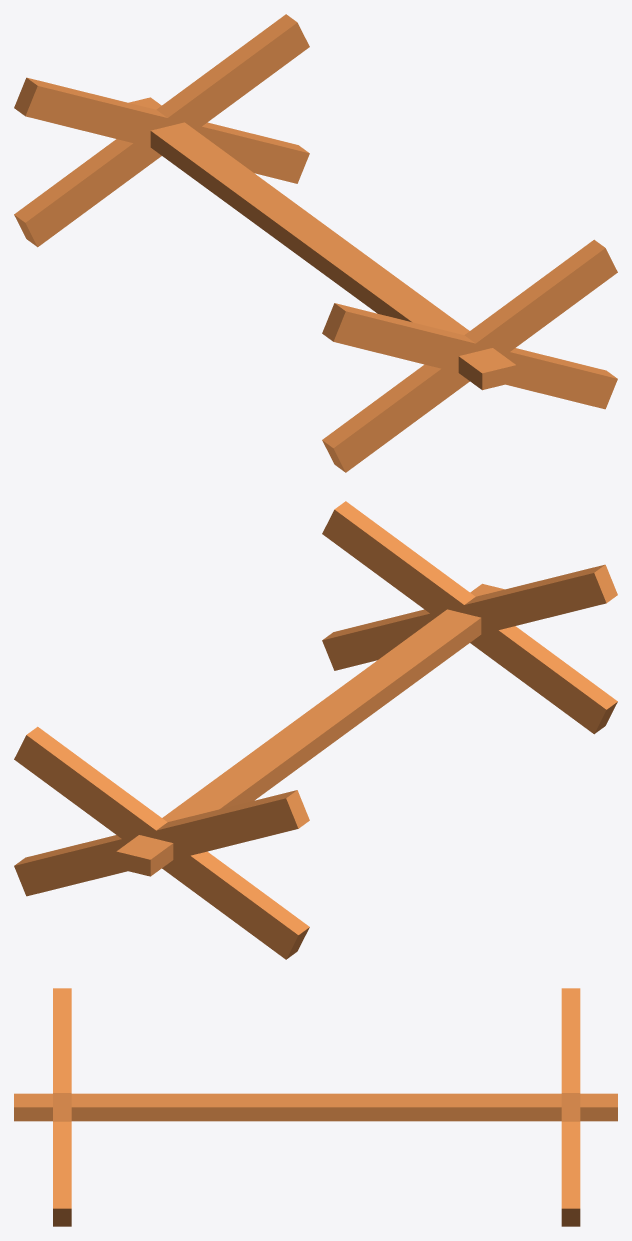
Rendered from Bedroll Frame.glb.
The picture shows the model from 3 angles, top to bottom: view 1: azimuth 30°, elevation 25°; view 2: azimuth 150°, elevation 25°; view 3: azimuth 270°, elevation 25°; orthographic projection. The views are drawn at different scales.
Visible parts, largest first — view 1: bedrollFrame; view 2: bedrollFrame; view 3: bedrollFrame.
Part boxes in pixels (x1,y1,x2,y2): bedrollFrame: (14,14,617,472); bedrollFrame: (14,501,617,959); bedrollFrame: (14,988,617,1226).
Size of the model in its own units: 0.2722 by 0.1477 by 0.6063.
